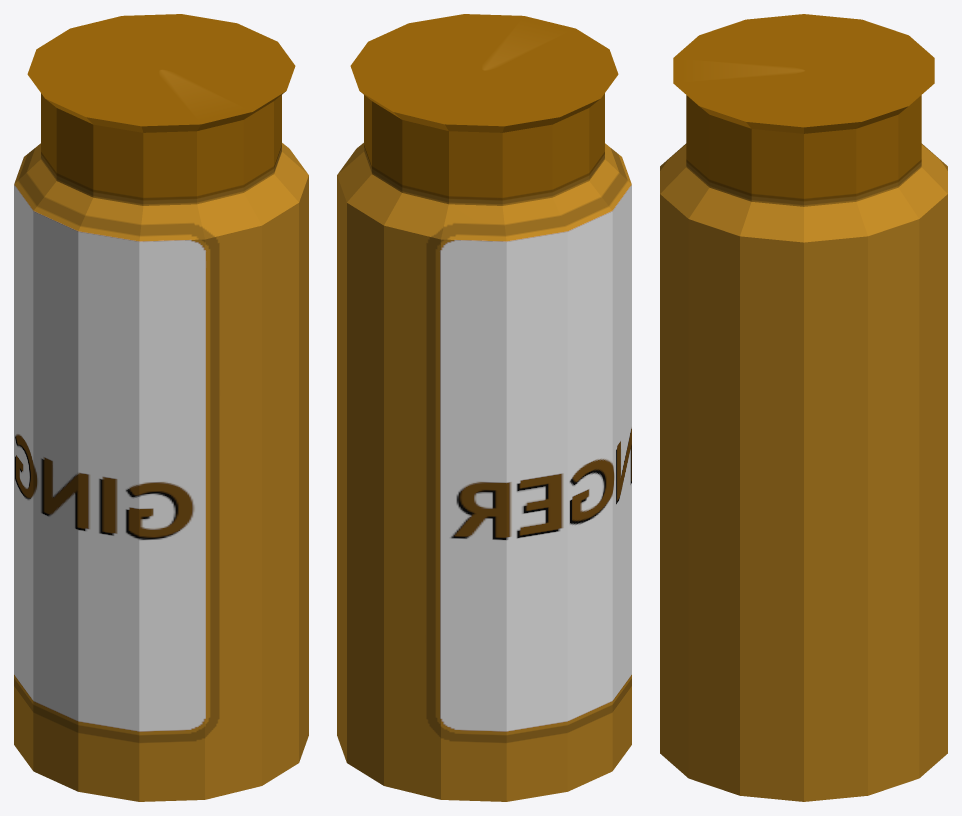
File: spice_ginger.obj
The picture shows the model from 3 angles, left to right: view 1: azimuth 30°, elevation 25°; view 2: azimuth 150°, elevation 25°; view 3: azimuth 270°, elevation 25°; orthographic projection.
Visible parts, largest first — view 1: spice_ginger; view 2: spice_ginger; view 3: spice_ginger.
Boxes of the visible parts, x1,y1,x2,y2 form: spice_ginger: (14,14,308,801); spice_ginger: (337,14,631,801); spice_ginger: (660,14,947,801).
Size of the model in its own units: 0.044 by 0.11 by 0.0429.
Materials: 1 (1 with a texture image).
